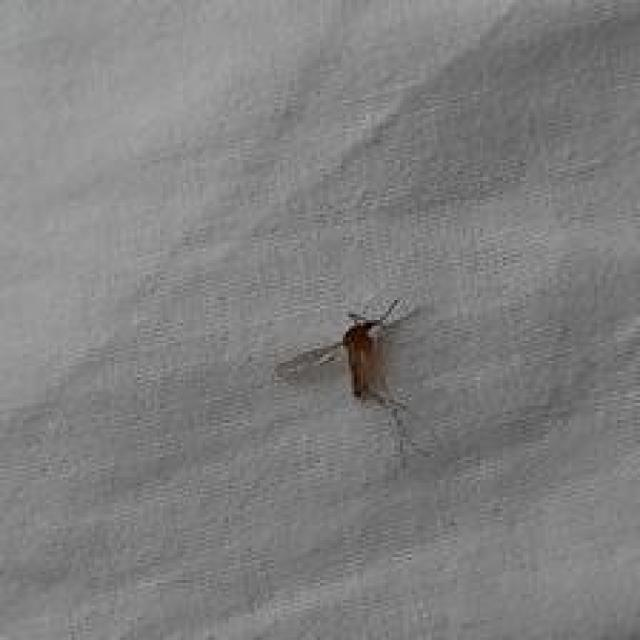Culex: (273, 296, 418, 413)
